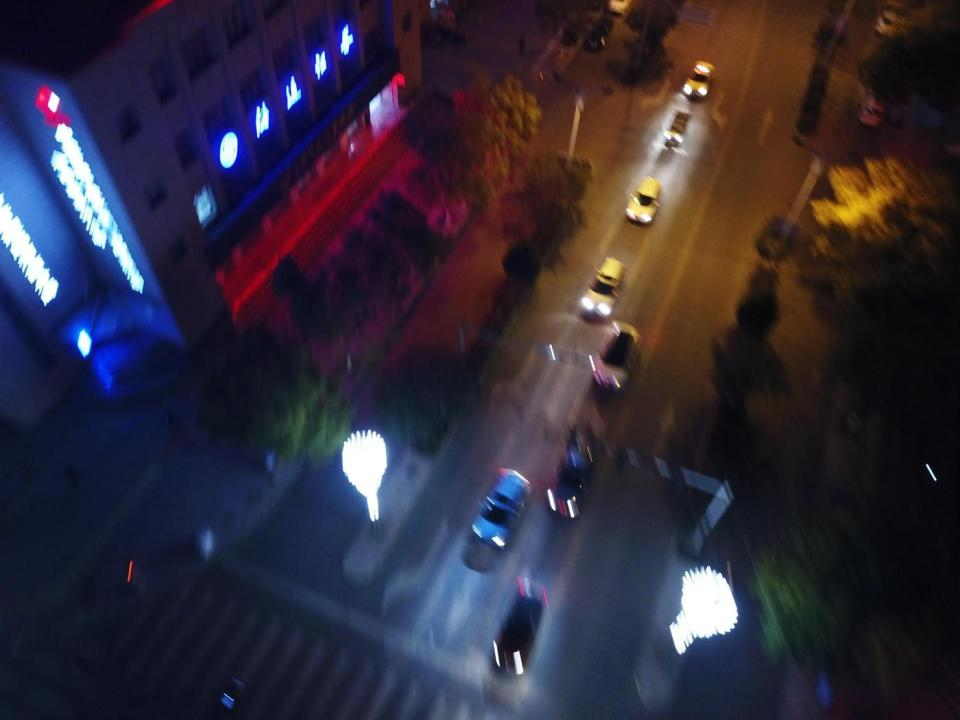car: (492, 578, 548, 677), (471, 466, 532, 554), (547, 428, 594, 518), (593, 320, 643, 391), (582, 256, 626, 317), (626, 177, 662, 225), (682, 60, 714, 98), (876, 11, 917, 39), (221, 674, 252, 710), (586, 17, 614, 50), (859, 93, 883, 128)
truck: (664, 111, 690, 148)
